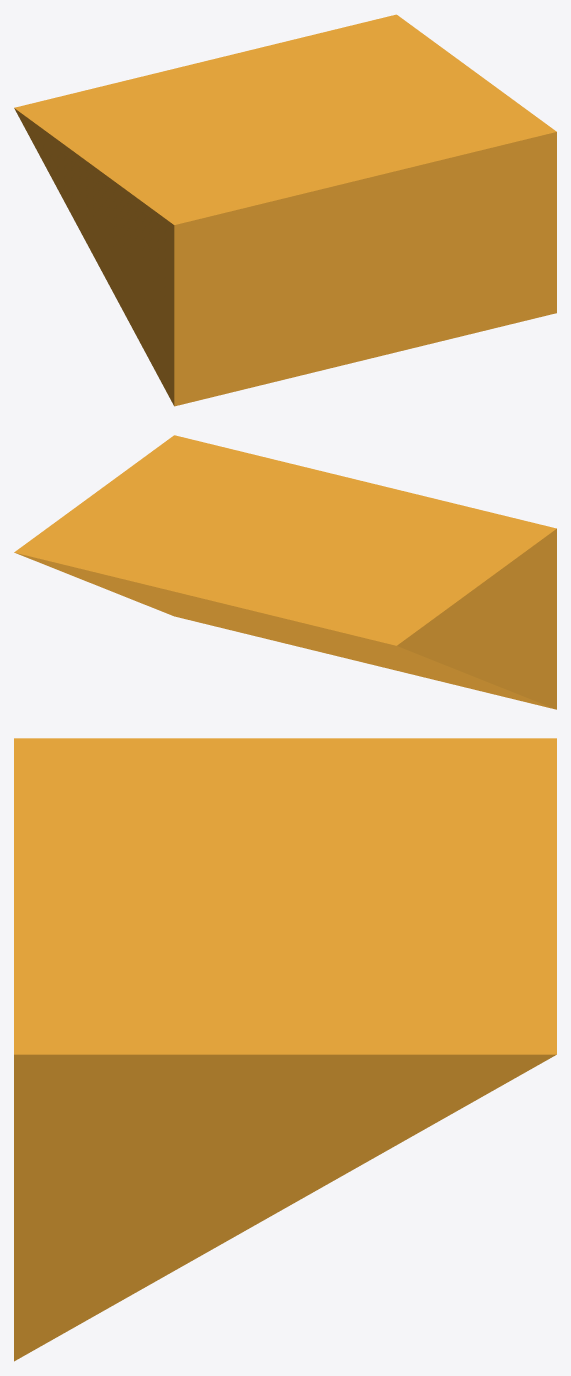
File: OBS1.fbx
The picture shows the model from 3 angles, top to bottom: view 1: azimuth 30°, elevation 25°; view 2: azimuth 150°, elevation 25°; view 3: azimuth 270°, elevation 25°; orthographic projection. The views are drawn at different scales.
Visible parts, largest first — view 1: Group1; view 2: Group1; view 3: Group1.
Boxes of the visible parts, x1=… form: Group1: x1=14, y1=14, x2=556, y2=406; Group1: x1=14, y1=435, x2=556, y2=709; Group1: x1=14, y1=738, x2=556, y2=1361.
Bounding box in the file's own units: 276 × 125 × 200.
